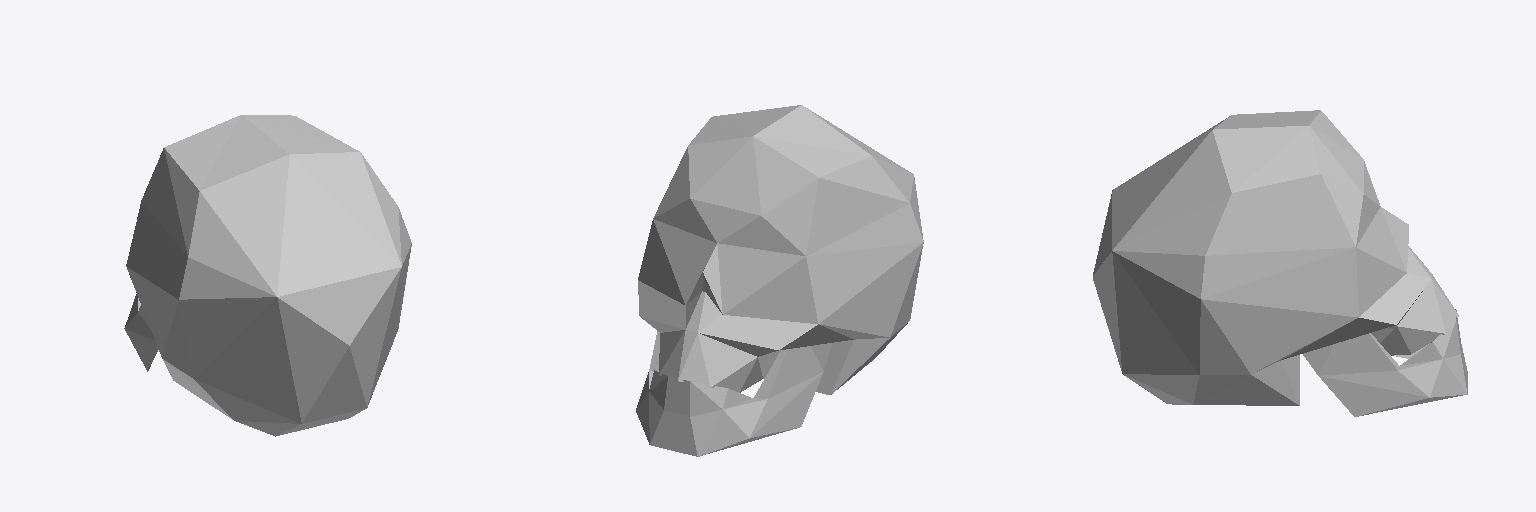
The model's file is CacklingSkull.obj.
3 views of the same model, side by side, from view 1: azimuth 30°, elevation 25°; view 2: azimuth 150°, elevation 25°; view 3: azimuth 270°, elevation 25° (orthographic).
Parts seen in each view (by area): view 1: material_0; view 2: material_0; view 3: material_0.
Boxes of the visible parts, <box> form: material_0: <box>124,115,411,436</box>; material_0: <box>636,105,923,456</box>; material_0: <box>1093,110,1467,416</box>.
Size of the model in its own units: 21.19 by 22.7 by 29.56.